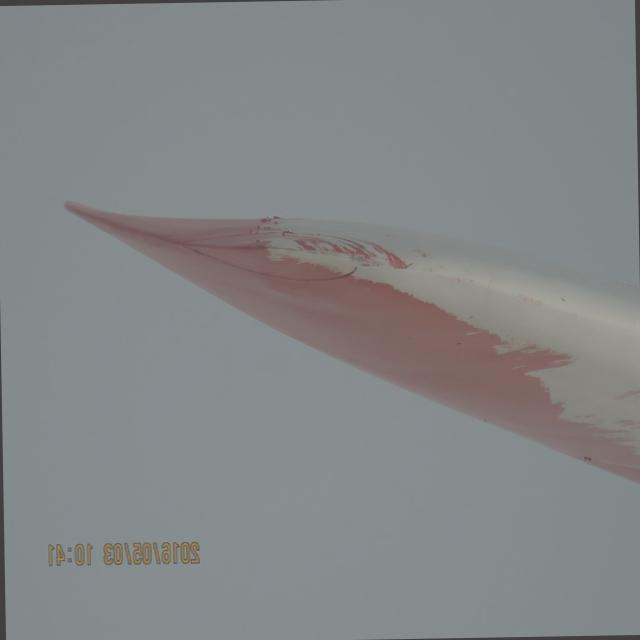surface_peeling: (258, 208, 489, 338), (502, 246, 634, 449)
